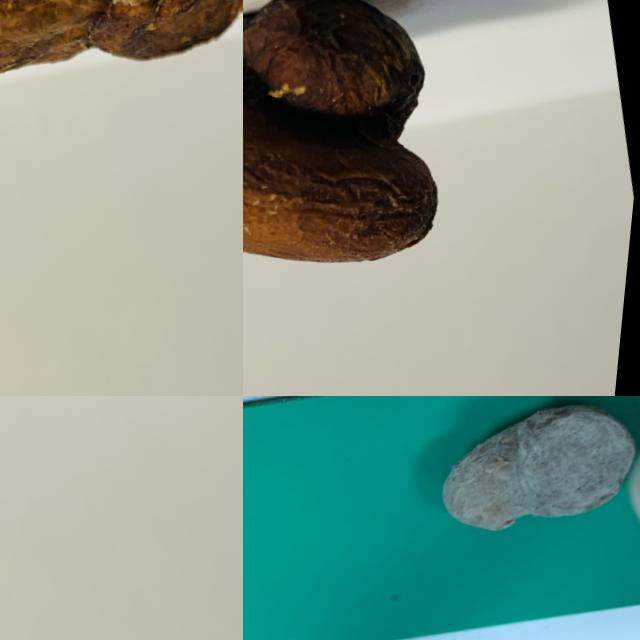Agglomerated_cocoabeans: (243, 0, 639, 339), (324, 396, 639, 608), (0, 0, 242, 153), (0, 396, 242, 449)
